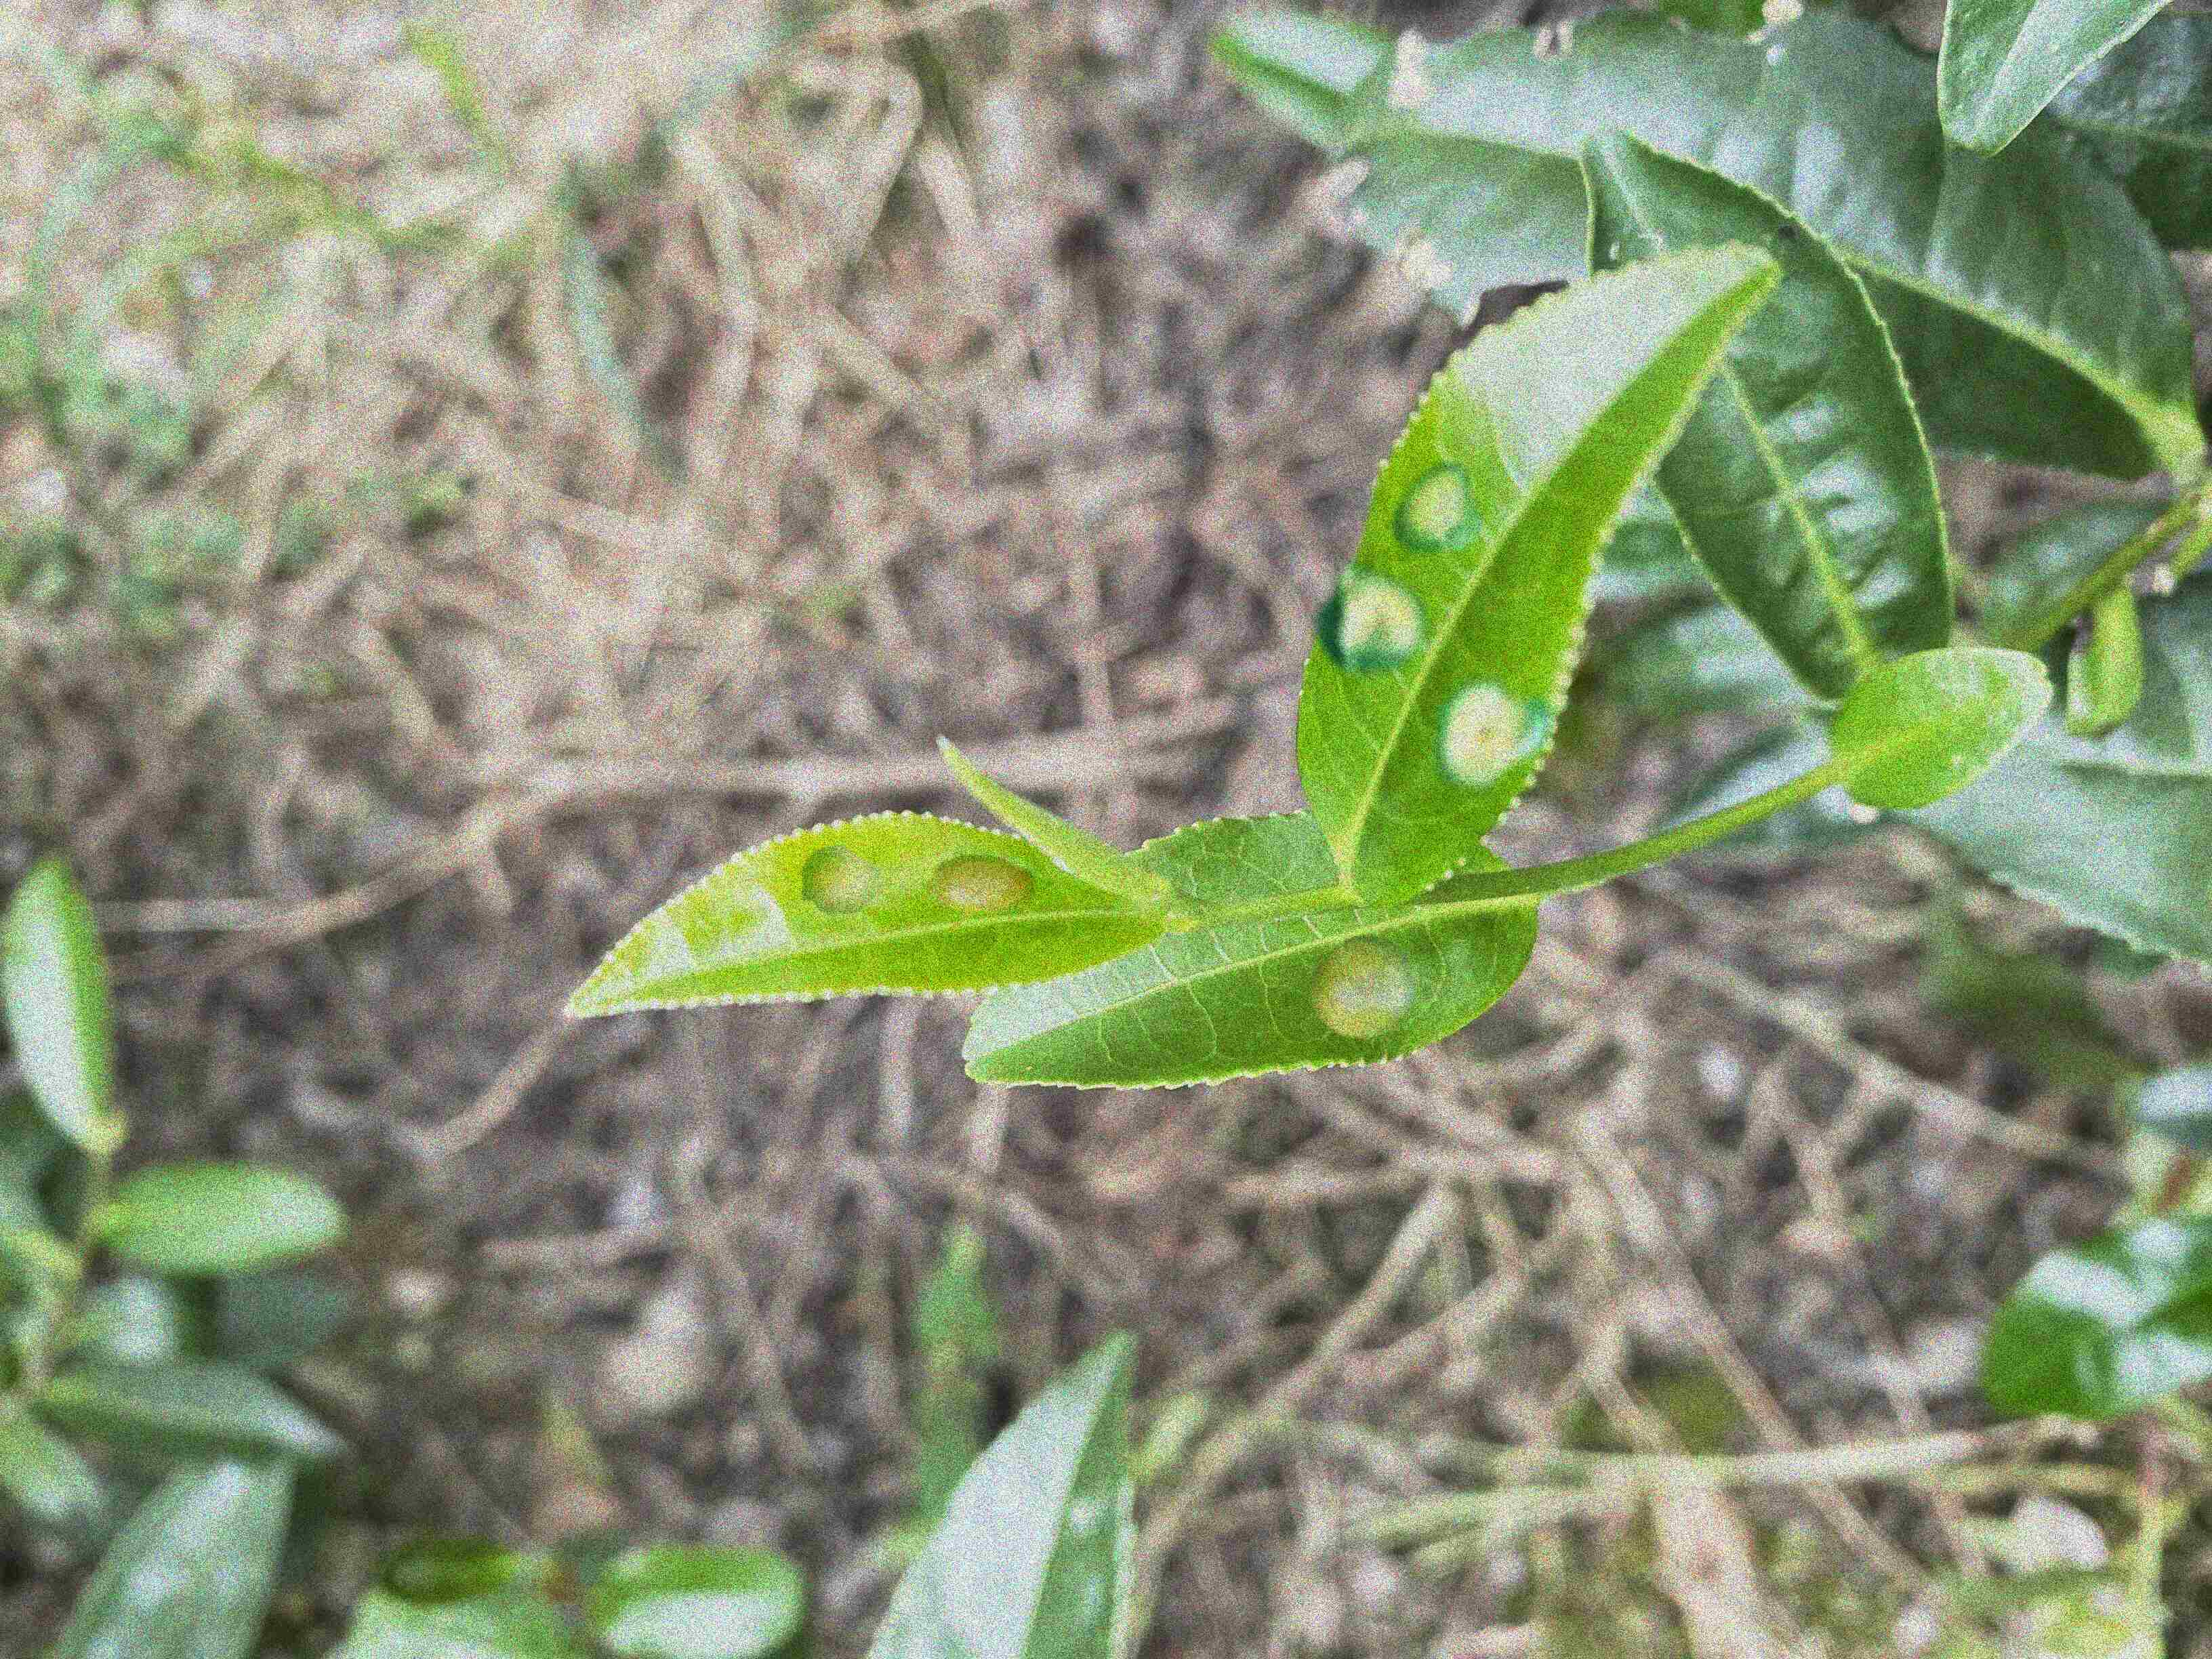chabing_high: (1296, 234, 1782, 906), (563, 803, 1167, 1023)
chabing_low: (961, 807, 1540, 1091)
healthy: (1825, 647, 2054, 809)
